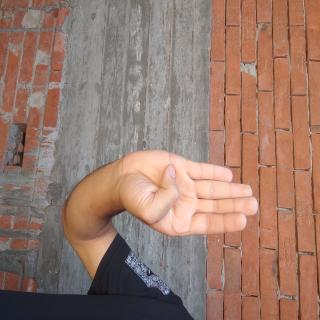KAAF: (106, 72, 182, 284)
